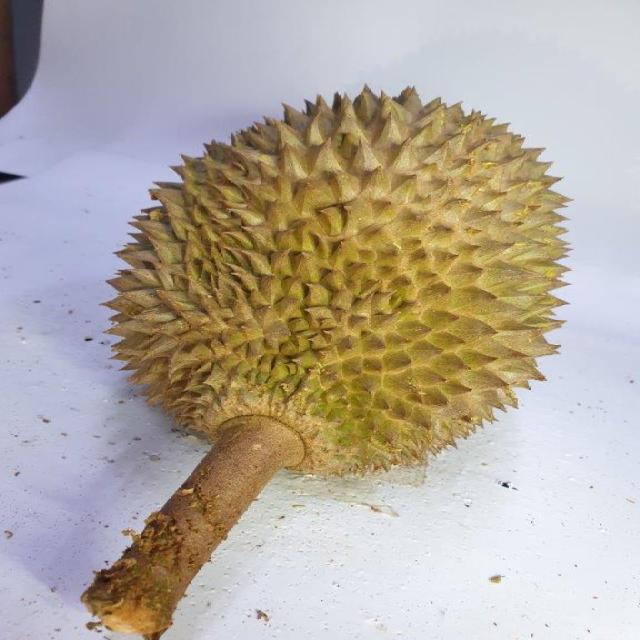mature: (100, 88, 576, 468)
